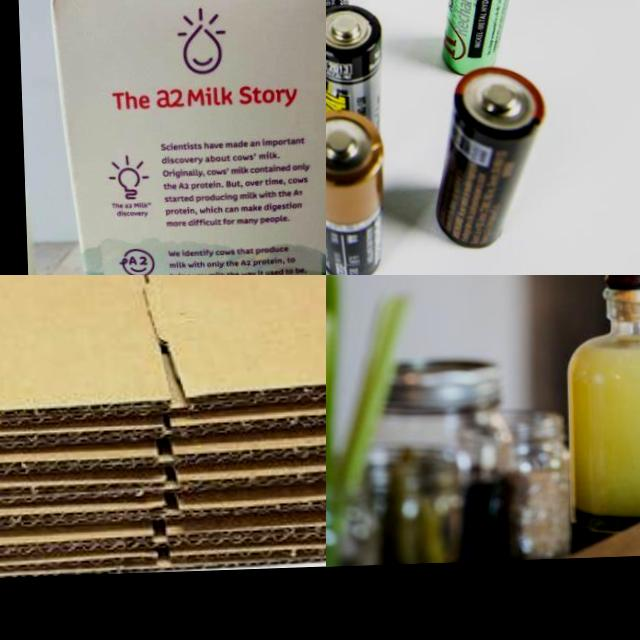bateria: (432, 64, 548, 251), (326, 107, 387, 275), (326, 0, 387, 136), (438, 0, 529, 75)
caixinha: (49, 0, 326, 275)
garrafa de vidro: (562, 275, 640, 543)
papelão: (0, 275, 326, 585)
